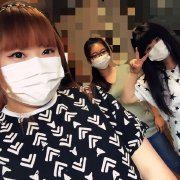OK: (4, 40, 69, 105), (145, 38, 171, 61), (91, 49, 111, 71)
